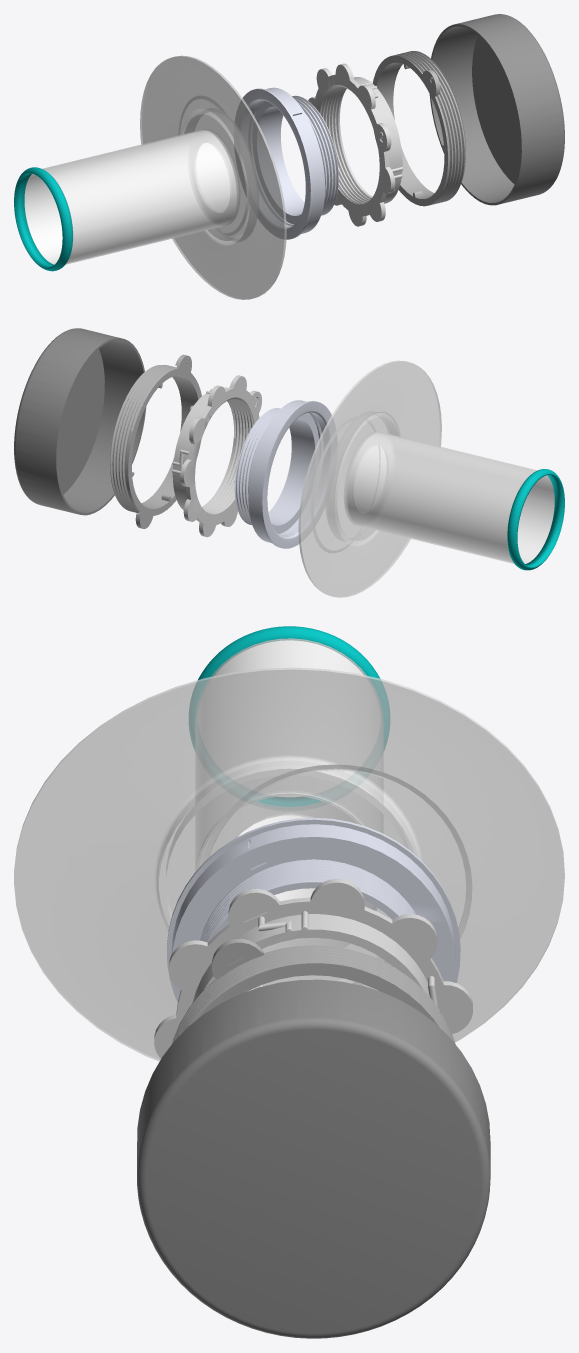
File: continent_exploded_smoothed.glb
3 renders of one model, top to bottom at view 1: azimuth 30°, elevation 25°; view 2: azimuth 150°, elevation 25°; view 3: azimuth 270°, elevation 25°, orthographic. The views are drawn at different scales.
Parts seen in each view (by area): view 1: Separator.004, Separator.006, Separator.003, Separator, Separator.002, Separator.001, Separator.005; view 2: Separator.004, Separator.006, Separator.003, Separator, Separator.002, Separator.001, Separator.005, Separator.007; view 3: Separator.006, Separator.003, Separator.004, Separator, Separator.002, Separator.001, Separator.005, Separator.007.
Boxes of the visible parts, box(x1,y1,x2,y2) form: Separator.004: box(24, 129, 239, 264); Separator.006: box(140, 55, 286, 299); Separator.003: box(429, 14, 564, 205); Separator: box(234, 87, 338, 239); Separator.002: box(308, 63, 403, 226); Separator.001: box(373, 51, 465, 206); Separator.005: box(14, 167, 72, 271); Separator.004: box(344, 432, 554, 563); Separator.006: box(298, 360, 441, 597); Separator.003: box(14, 328, 146, 515); Separator: box(234, 400, 337, 548); Separator.002: box(172, 375, 261, 537); Separator.001: box(110, 354, 201, 528); Separator.005: box(507, 469, 564, 570); Separator.007: box(311, 417, 380, 552); Separator.006: box(14, 667, 564, 1061); Separator.003: box(137, 979, 490, 1338); Separator.004: box(195, 638, 382, 952); Separator: box(167, 817, 460, 1002); Separator.002: box(154, 878, 472, 1058); Separator.001: box(172, 938, 455, 1044); Separator.005: box(189, 626, 389, 806); Separator.007: box(201, 764, 472, 988).
Size of the model in its own units: 23.38 by 10 by 12.
